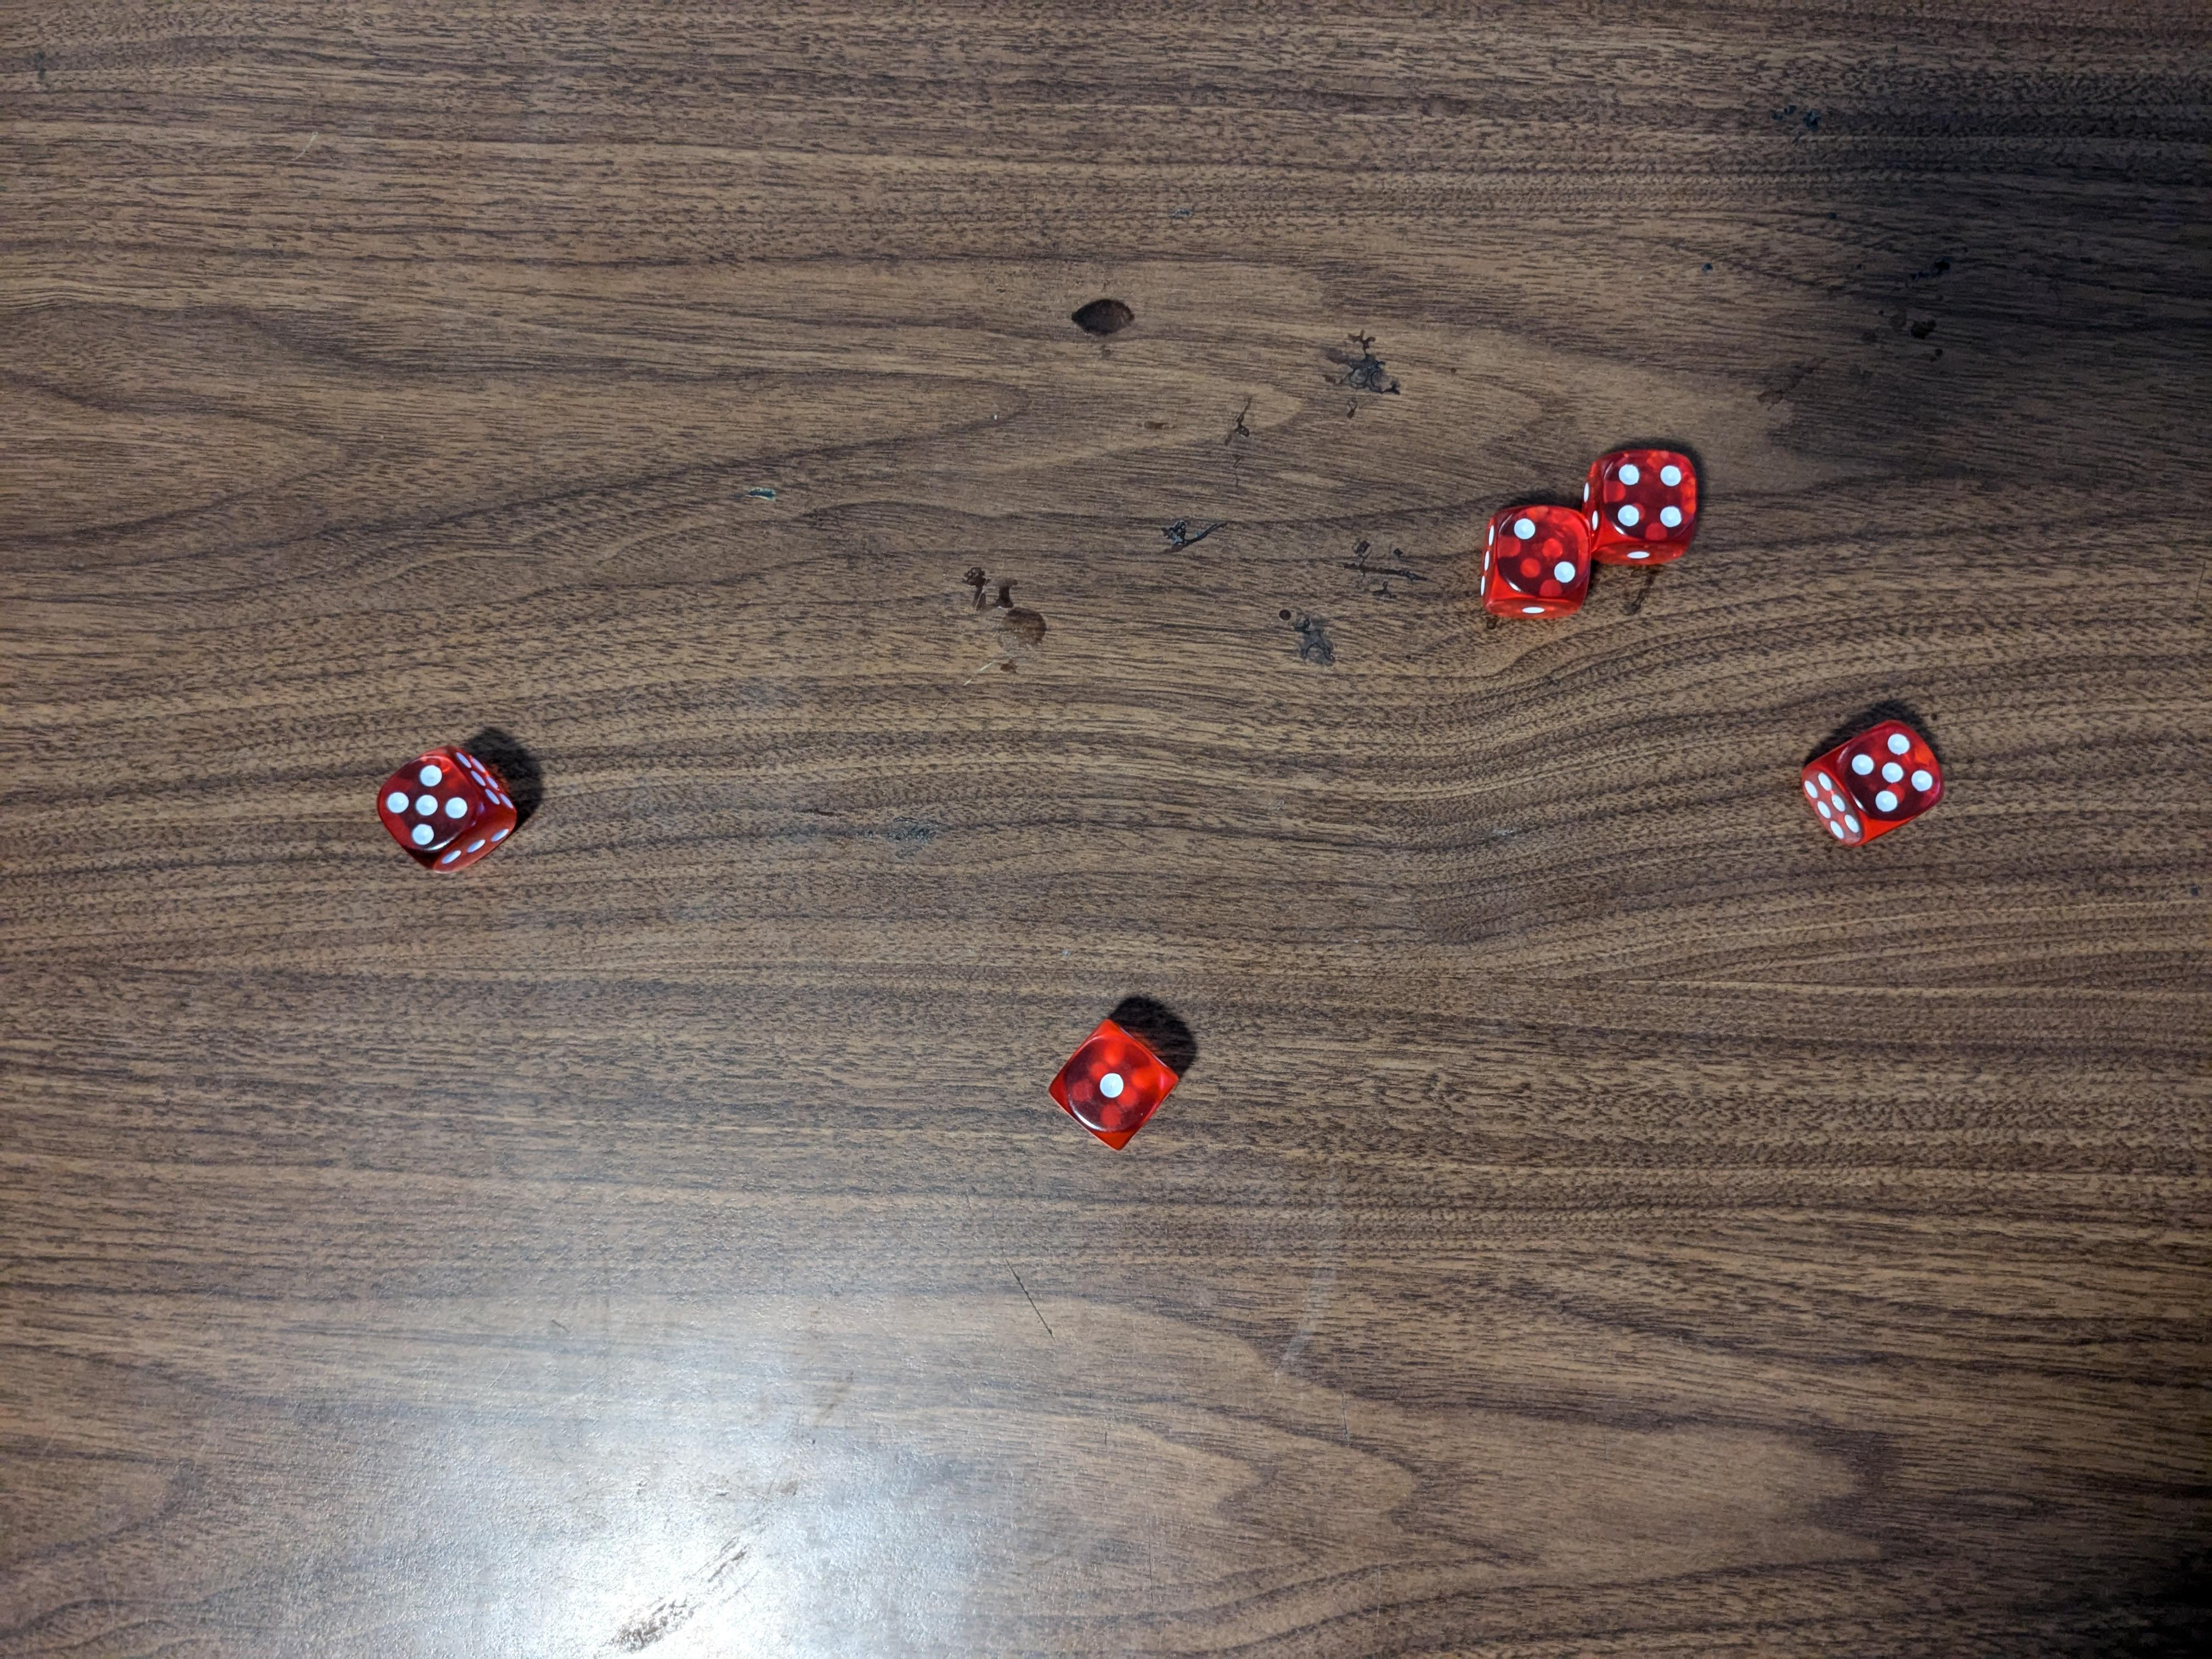five: (369, 744, 519, 871), (1806, 711, 1946, 842)
four: (1580, 446, 1709, 570)
one: (1042, 1012, 1179, 1152)
two: (1479, 507, 1587, 622)
